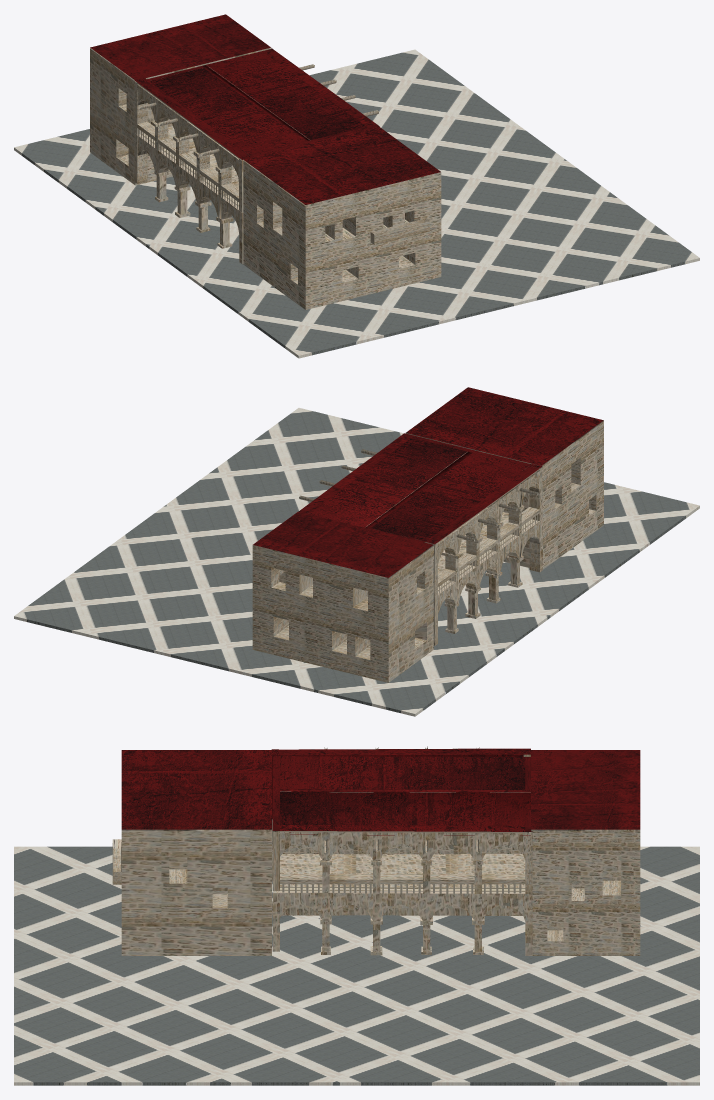
The model's file is alcazar.fbx.
3 renders of one model, top to bottom at view 1: azimuth 30°, elevation 25°; view 2: azimuth 150°, elevation 25°; view 3: azimuth 270°, elevation 25°, orthographic. The views are drawn at different scales.
Visible parts, largest first — view 1: Plane, Cylinder.005, Cylinder.001; view 2: Plane, Cylinder.005, Cylinder.001; view 3: Plane, Cylinder.005, Cylinder.001.
Boxes of the visible parts, box(x1,y1,x2,y2) form: Plane: box(14, 49, 699, 358); Cylinder.005: box(90, 14, 441, 309); Cylinder.001: box(135, 50, 375, 157); Plane: box(14, 408, 699, 716); Cylinder.005: box(252, 387, 603, 682); Cylinder.001: box(300, 435, 538, 544); Plane: box(14, 846, 699, 1085); Cylinder.005: box(112, 746, 640, 955); Cylinder.001: box(272, 748, 530, 854).
Size of the model in its own units: 1441 by 373 by 1772.
